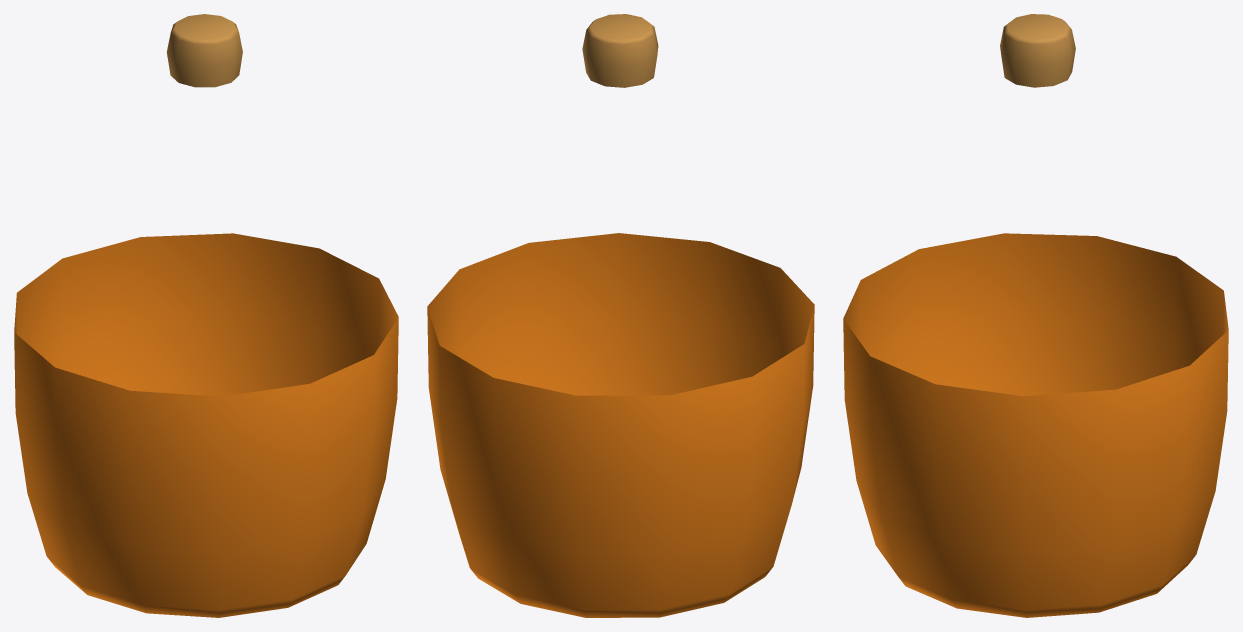
The model's file is Pocion_3.fbx.
3 views of the same model, side by side, from view 1: azimuth 30°, elevation 25°; view 2: azimuth 150°, elevation 25°; view 3: azimuth 270°, elevation 25° (orthographic).
Visible parts, largest first — view 1: Pocion_3; view 2: Pocion_3; view 3: Pocion_3.
Part boxes in pixels (x1,y1,x2,y2): Pocion_3: (14,14,398,617); Pocion_3: (427,14,814,617); Pocion_3: (843,14,1228,617).
Size of the model in its own units: 42.52 by 64.61 by 42.48.
Materials: 1 (1 with a texture image).
